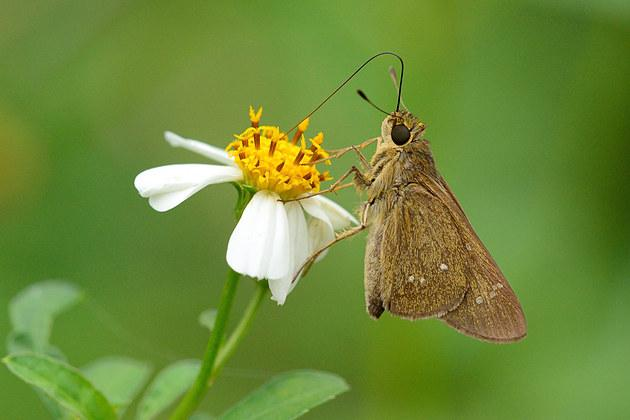Hesperiidae: (298, 46, 530, 344)
